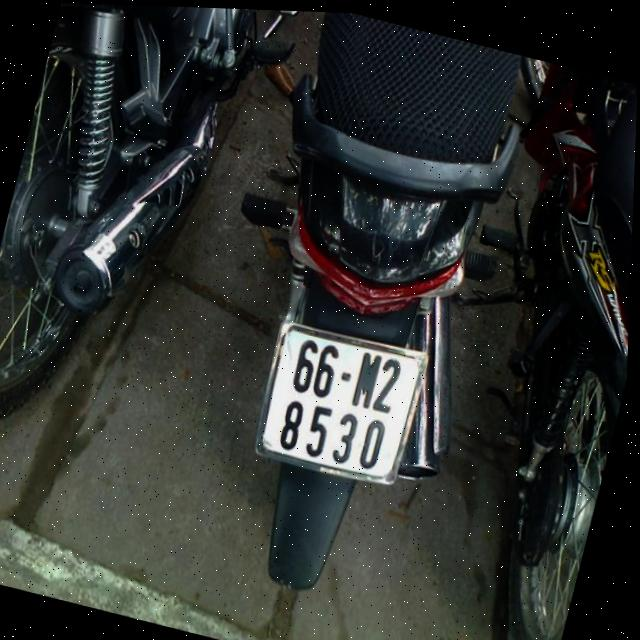motorcycle: (176, 7, 561, 627), (382, 53, 639, 640), (0, 0, 300, 497)
plate: (243, 313, 430, 488)
